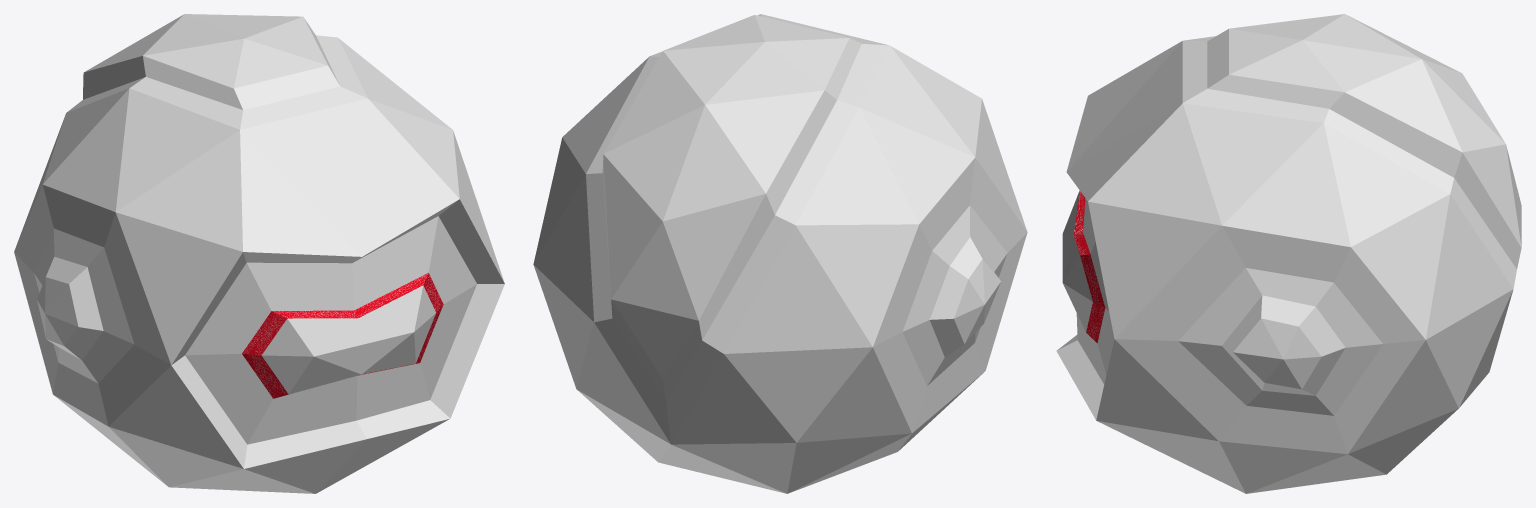
Rendered from Player.fbx.
The picture shows the model from 3 angles, left to right: view 1: azimuth 30°, elevation 25°; view 2: azimuth 150°, elevation 25°; view 3: azimuth 270°, elevation 25°; orthographic projection.
Parts seen in each view (by area): view 1: Icosphere.001; view 2: Icosphere.001; view 3: Icosphere.001.
Part boxes in pixels (x1,y1,x2,y2): Icosphere.001: (14,14,504,493); Icosphere.001: (533,14,1027,493); Icosphere.001: (1056,14,1521,493).
Bounding box in the file's own units: 207 × 192 × 199.
